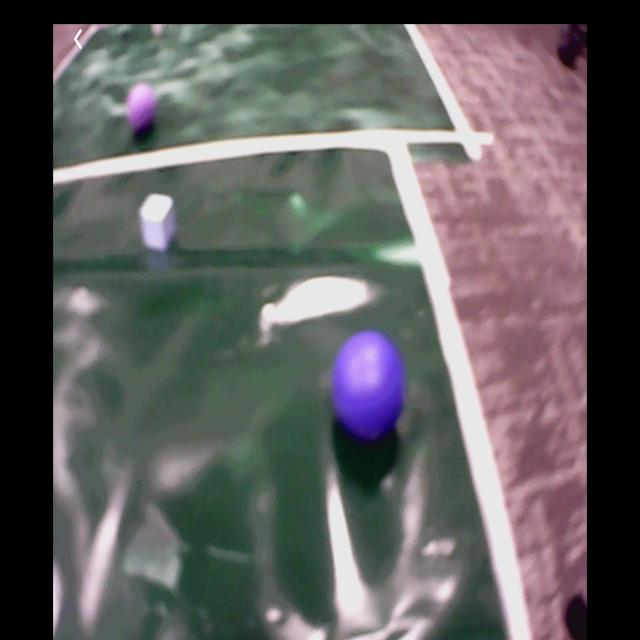ball: (335, 332, 409, 440), (126, 84, 160, 137)
